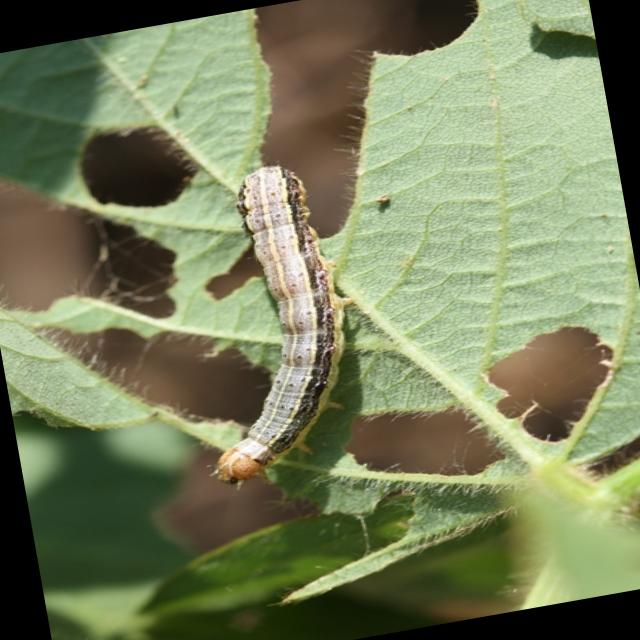Armyworm: (115, 140, 430, 508)
Armyworm_damage: (37, 264, 246, 466), (469, 274, 635, 485), (332, 375, 527, 530), (318, 1, 517, 107), (60, 100, 211, 238)
